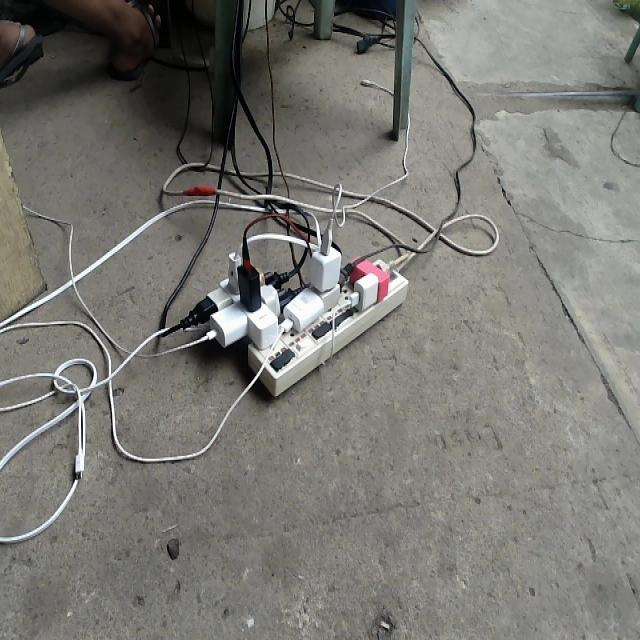-: (183, 211, 406, 397)
